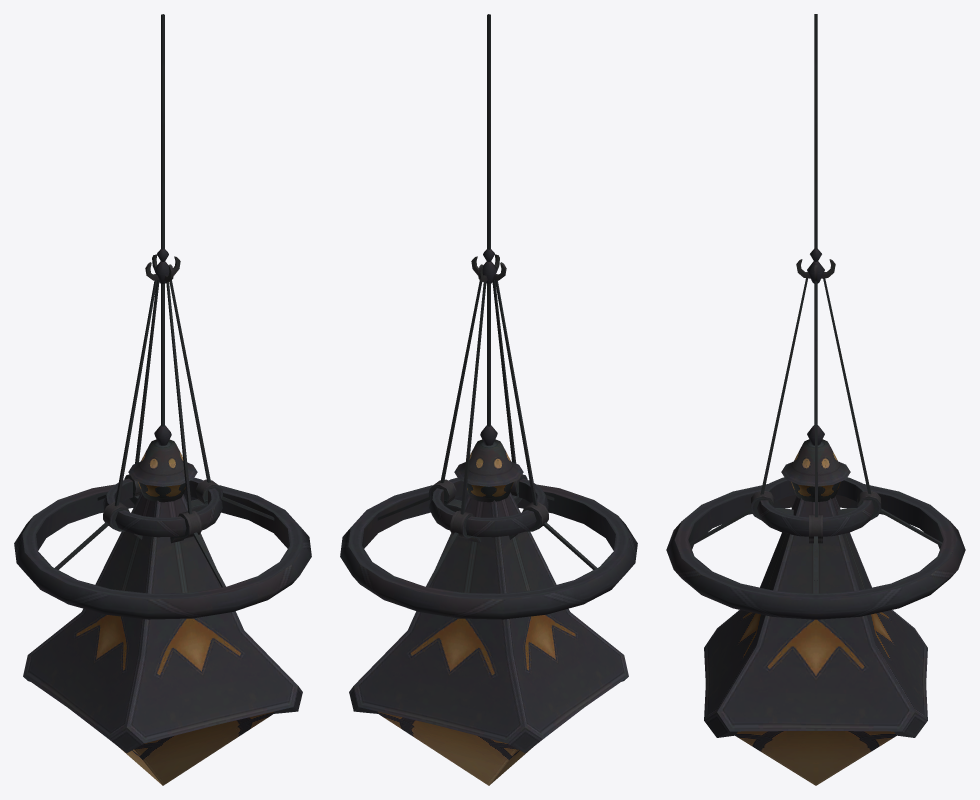
File: Indoor_Mdprops_Church_Lights03_Vo_1128_1.fbx
3 views of the same model, side by side, from view 1: azimuth 30°, elevation 25°; view 2: azimuth 150°, elevation 25°; view 3: azimuth 270°, elevation 25° (orthographic).
Parts seen in each view (by area): view 1: Indoor_Mdprops_Church_Lights03_Vo_1128_1; view 2: Indoor_Mdprops_Church_Lights03_Vo_1128_1; view 3: Indoor_Mdprops_Church_Lights03_Vo_1128_1.
Boxes of the visible parts, <box> form: Indoor_Mdprops_Church_Lights03_Vo_1128_1: <box>14,14,311,785</box>; Indoor_Mdprops_Church_Lights03_Vo_1128_1: <box>340,14,637,785</box>; Indoor_Mdprops_Church_Lights03_Vo_1128_1: <box>666,14,965,785</box>.
Size of the model in its own units: 1.41 by 4.02 by 1.41.
